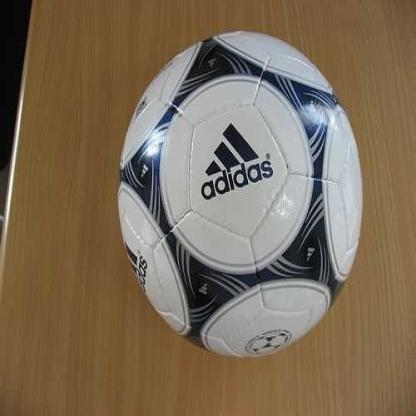ball: (119, 32, 364, 358)
